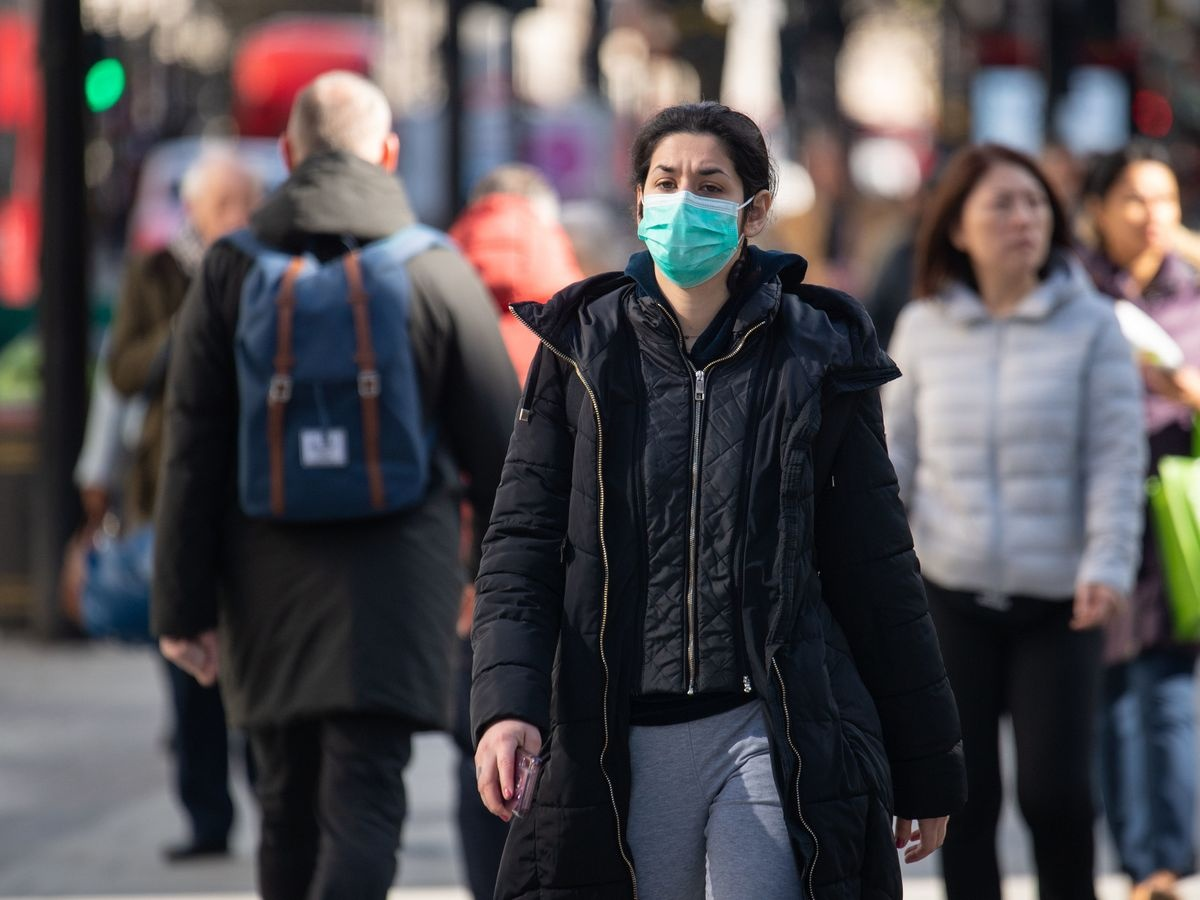with_mask: (638, 129, 765, 287)
